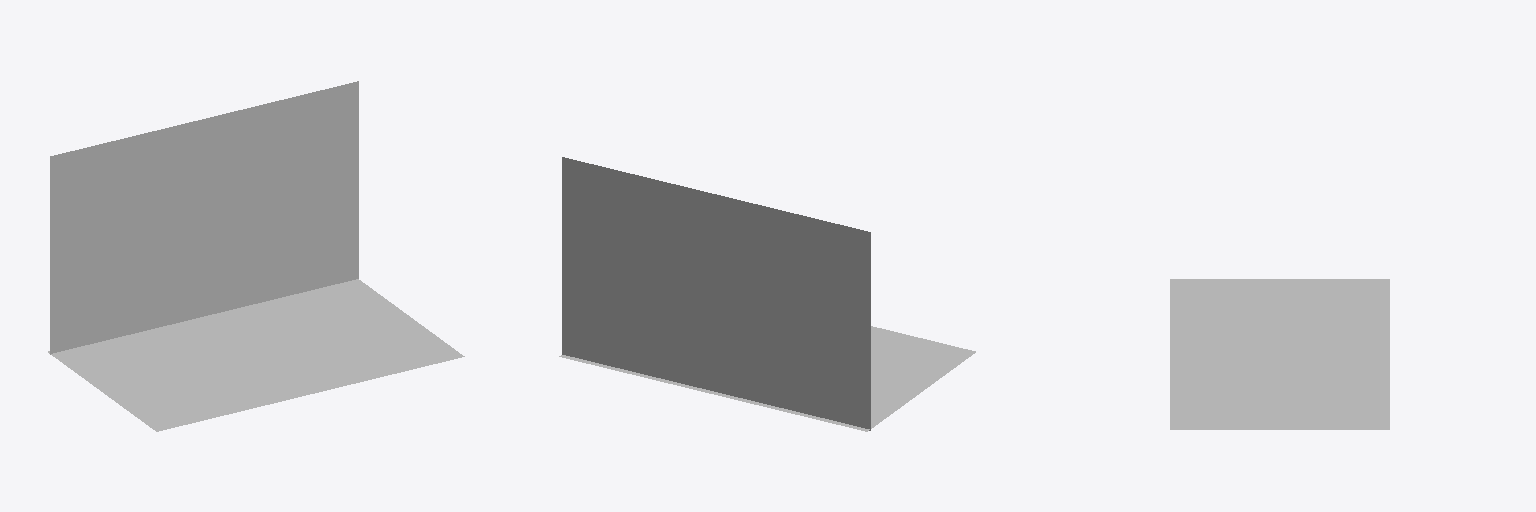
File: Walls.obj
The picture shows the model from 3 angles: view 1: azimuth 30°, elevation 25°; view 2: azimuth 150°, elevation 25°; view 3: azimuth 270°, elevation 25°; orthographic projection.
Parts seen in each view (by area): view 1: pPlane2 polySurface2, polySurface4 pPlane2; view 2: pPlane2 polySurface2, polySurface4 pPlane2; view 3: polySurface4 pPlane2.
Boxes of the visible parts, box(x1,y1,x2,y2) form: pPlane2 polySurface2: box(50, 81, 358, 354); polySurface4 pPlane2: box(48, 279, 464, 431); pPlane2 polySurface2: box(562, 157, 870, 430); polySurface4 pPlane2: box(559, 326, 975, 431); polySurface4 pPlane2: box(1170, 279, 1389, 429).
Bounding box in the file's own units: 17.15 × 10.56 × 10.56.